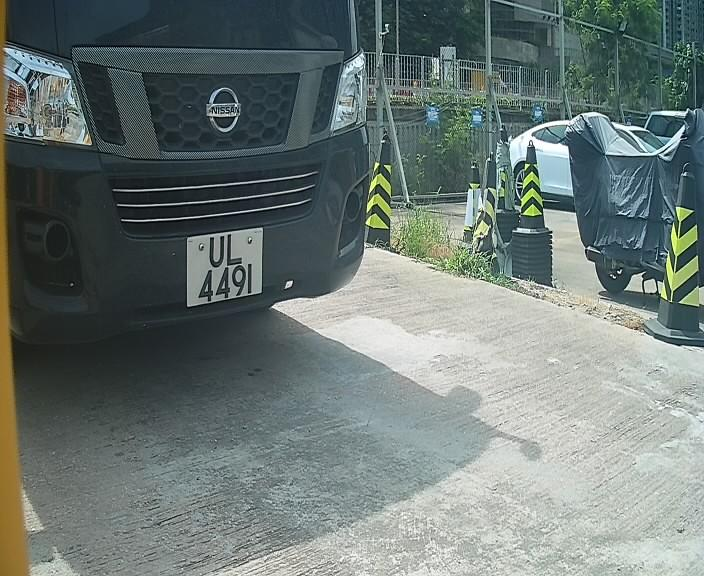License Plate: (173, 224, 274, 307)
